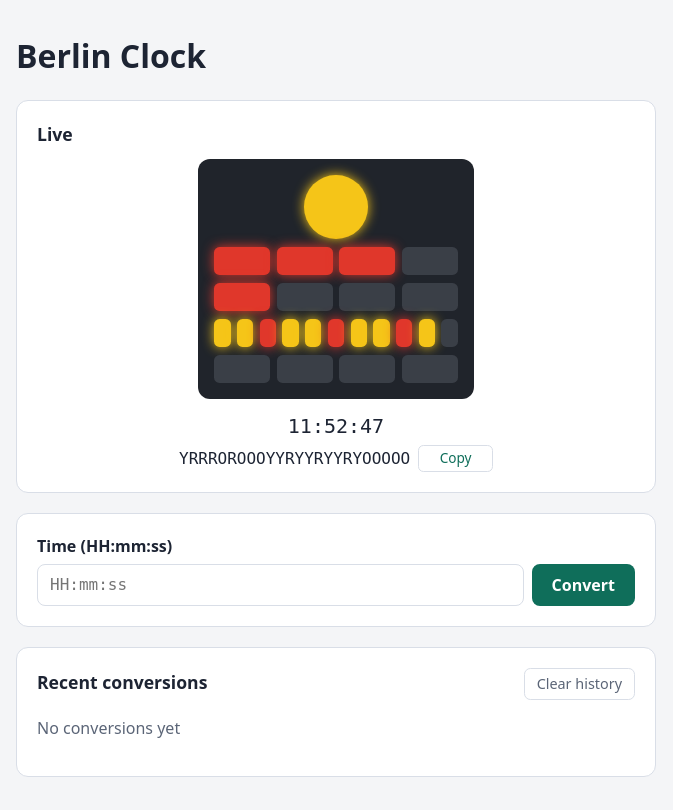
Converting a time › converts once when submitted again before the answer arrives
Type "16:50:06" into the field labelled "Time (HH:mm:ss)" at x=280, y=585, box [37,564,524,606]
Then press Enter, Enter
(page scrolled)
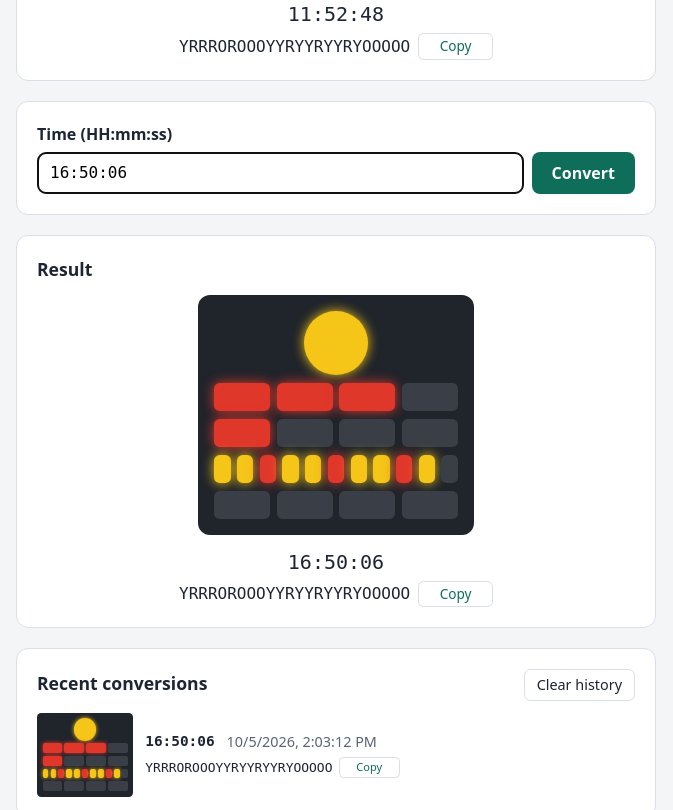
Expected: the element "Result" is shown, [16,235,656,628]
